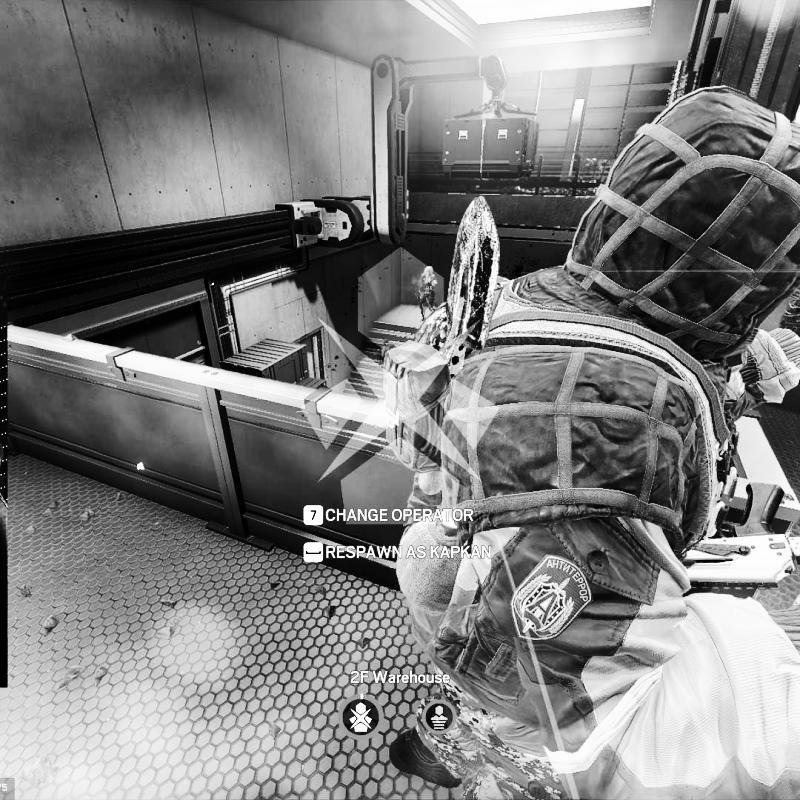Character: (392, 80, 800, 800), (415, 264, 438, 322)
Head: (572, 84, 800, 349), (424, 265, 434, 277)
